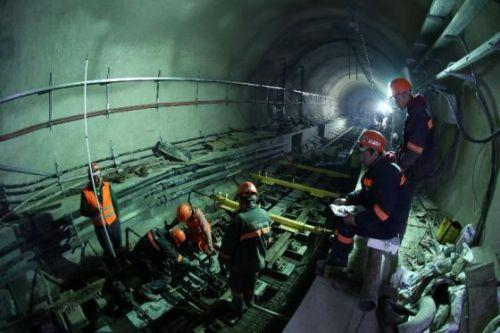helmet: (355, 128, 390, 167), (389, 74, 415, 107), (234, 180, 259, 211), (173, 201, 197, 222), (84, 162, 104, 184), (166, 229, 190, 247)
